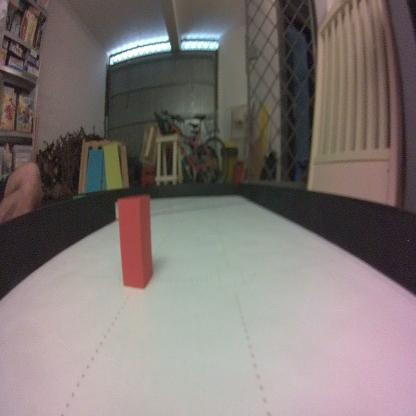red: (116, 194, 154, 288)
